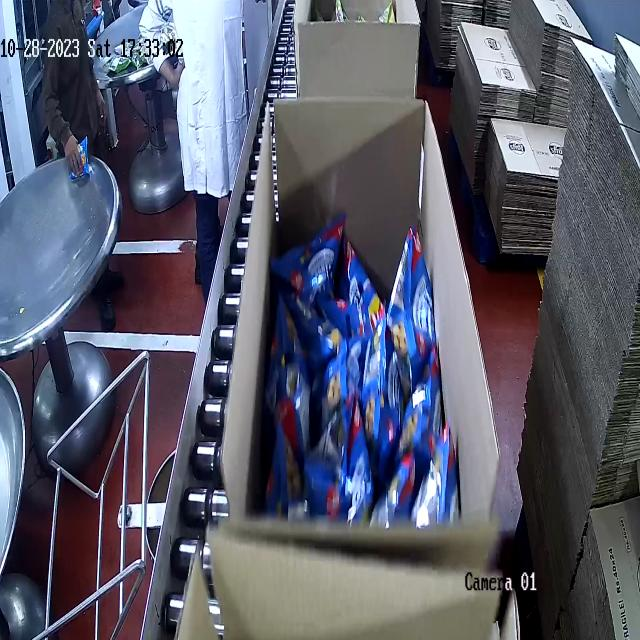PAPRIKA: (261, 235, 464, 531)
